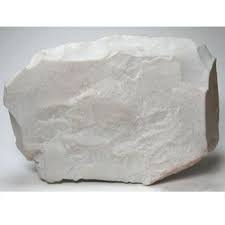obstacle: (0, 27, 224, 184)
